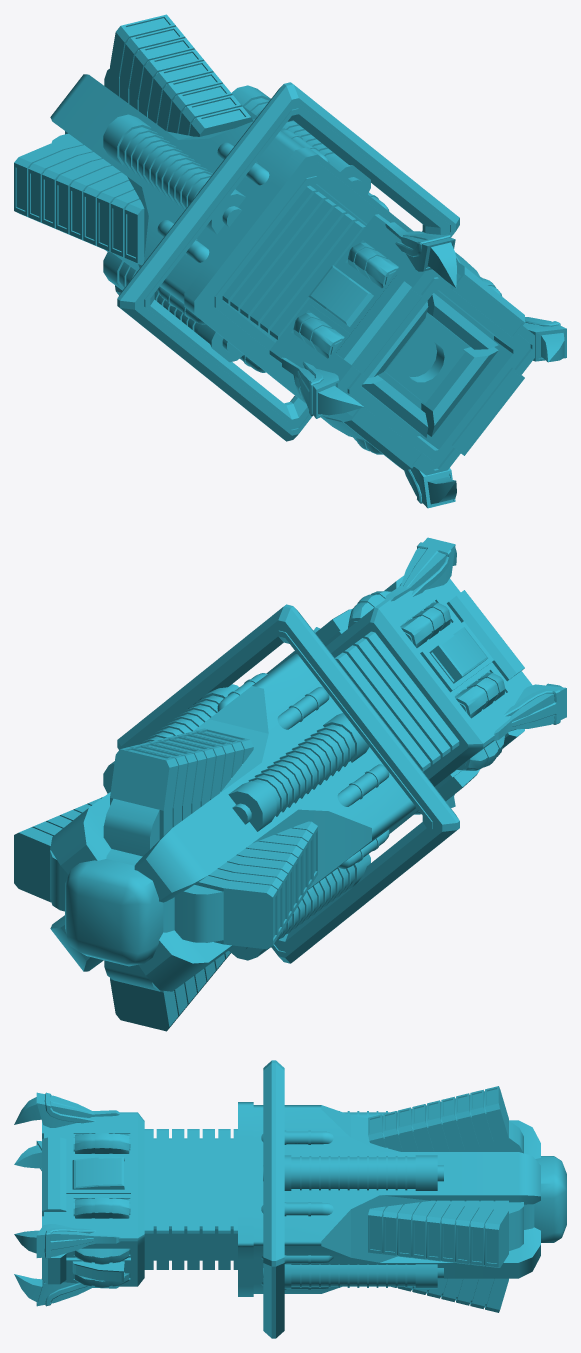
The model's file is BFL One Object.fbx.
3 views of the same model, one above another, from view 1: azimuth 30°, elevation 25°; view 2: azimuth 150°, elevation 25°; view 3: azimuth 270°, elevation 25° (orthographic). The views are drawn at different scales.
Parts seen in each view (by area): view 1: BFL1_Head_Neck_Base; view 2: BFL1_Head_Neck_Base; view 3: BFL1_Head_Neck_Base.
Part boxes in pixels (bbox=[...]): BFL1_Head_Neck_Base: bbox=[14, 14, 566, 508]; BFL1_Head_Neck_Base: bbox=[14, 537, 566, 1031]; BFL1_Head_Neck_Base: bbox=[14, 1060, 566, 1338].
Bounding box in the file's own units: 397 × 397 × 723.
